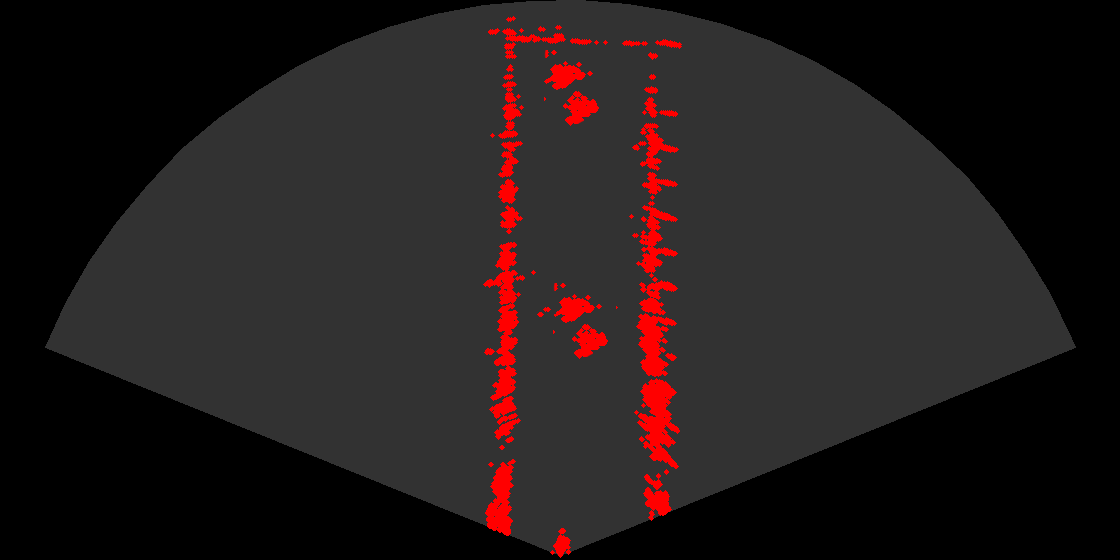cage: (544, 50, 607, 134), (553, 283, 616, 367)
